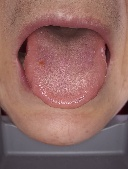tongue: (22, 45, 110, 111)
